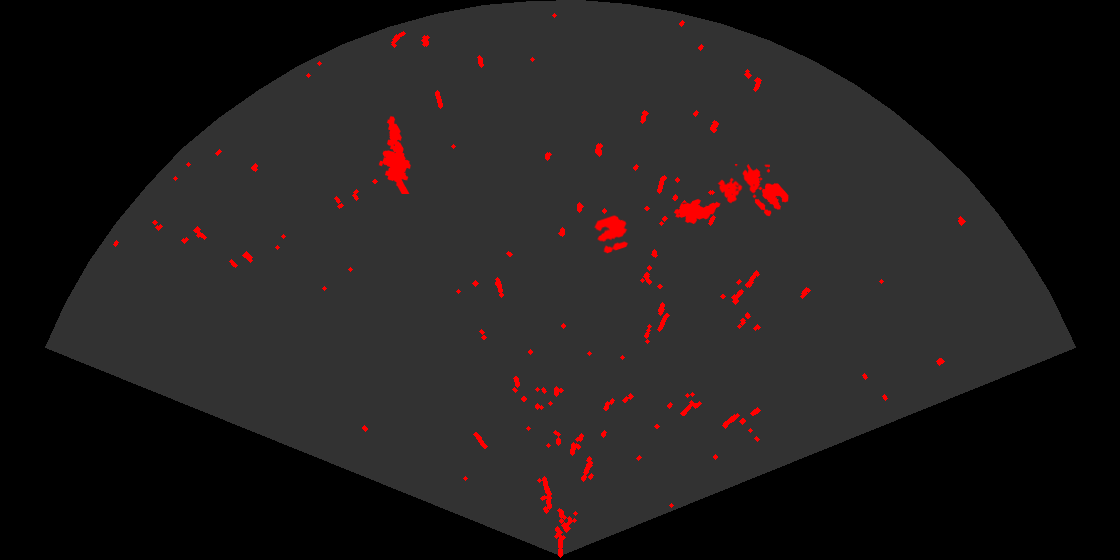AUV: (672, 197, 722, 226)
ball: (593, 214, 630, 255), (753, 182, 790, 218)
cage: (716, 164, 770, 205)
frogman: (377, 115, 412, 194)
